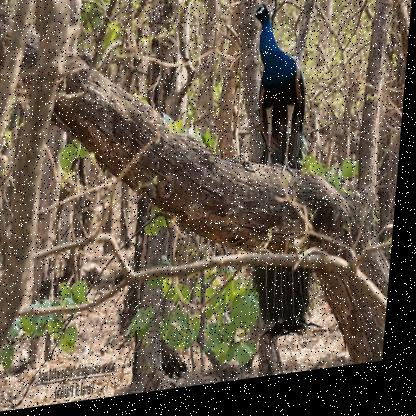Burung: (230, 0, 337, 351)
